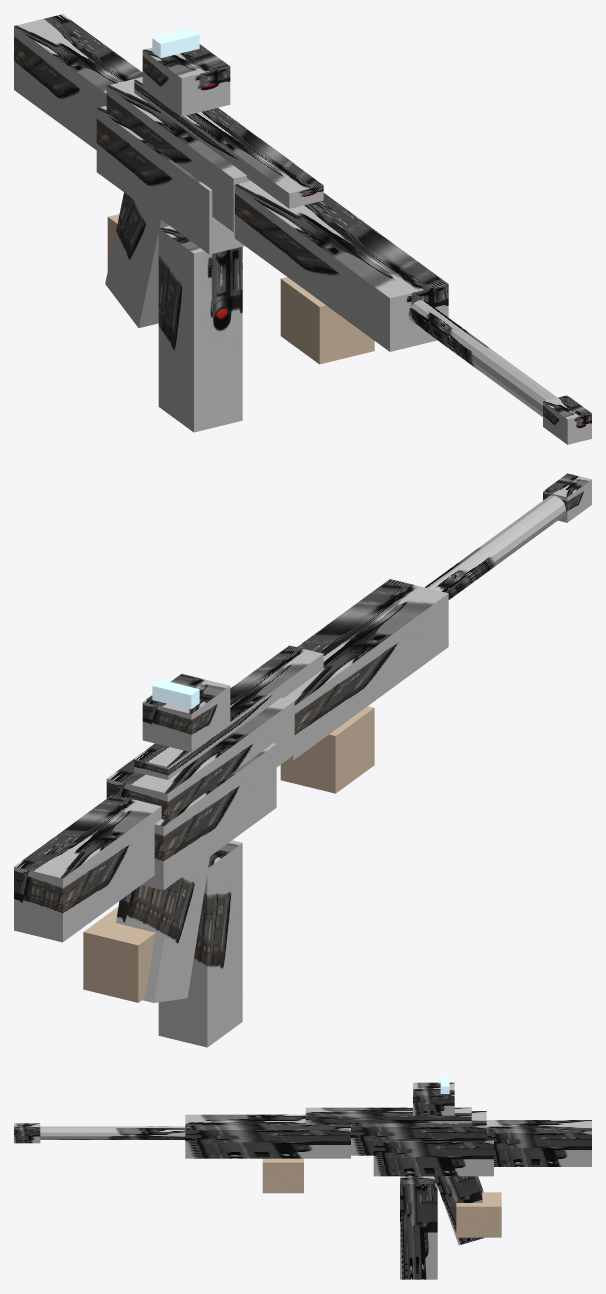
The picture shows the model from 3 angles, top to bottom: view 1: azimuth 30°, elevation 25°; view 2: azimuth 150°, elevation 25°; view 3: azimuth 270°, elevation 25°; orthographic projection. The views are drawn at different scales.
Visible parts, largest first — view 1: WeaponMesh, Mag.001; view 2: WeaponMesh, Mag.001; view 3: WeaponMesh, Mag.001.
Part boxes in pixels (box(x1,y1,x2,y2)): WeaponMesh: box(14, 14, 591, 444); Mag.001: box(158, 225, 242, 432); WeaponMesh: box(14, 473, 591, 1002); Mag.001: box(158, 840, 242, 1047); WeaponMesh: box(14, 1076, 591, 1245); Mag.001: box(400, 1176, 437, 1279).
Bounding box in the file's own units: 0.06 × 0.281 × 0.7675.
7 materials, 3 textured.
